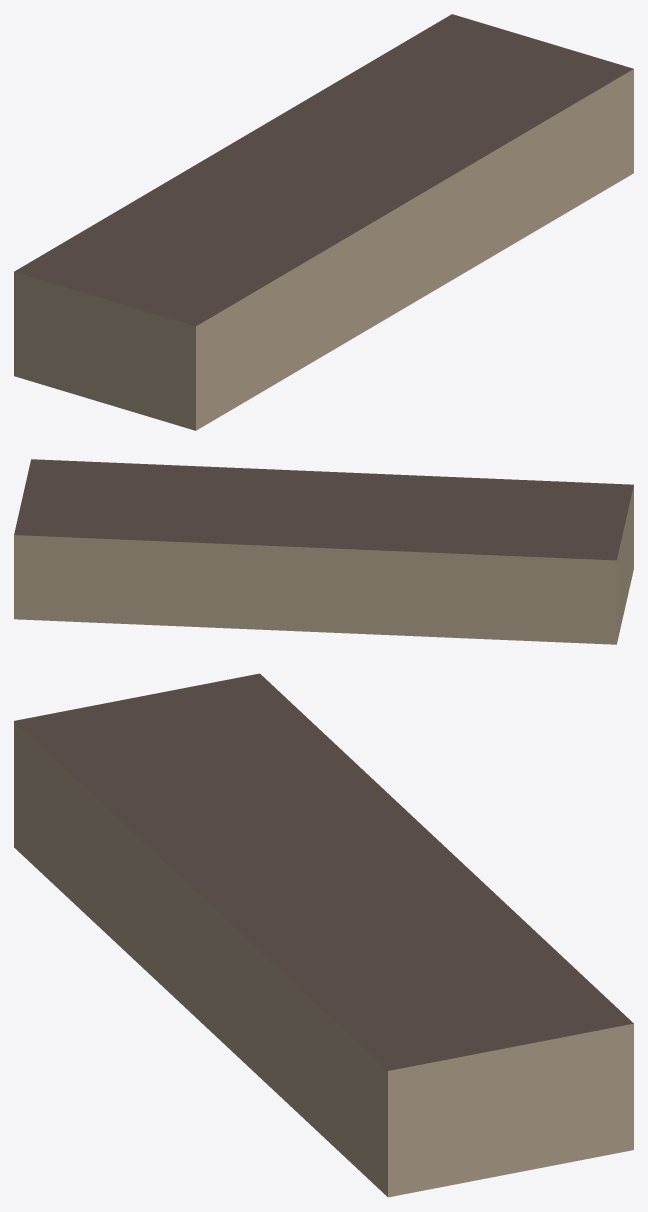
3 views of the same model, one above another, from view 1: azimuth 30°, elevation 25°; view 2: azimuth 150°, elevation 25°; view 3: azimuth 270°, elevation 25° (orthographic). The views are drawn at different scales.
Visible parts, largest first — view 1: HP-w475045201; view 2: HP-w475045201; view 3: HP-w475045201.
Boxes of the visible parts, box(x1,y1,x2,y2) form: HP-w475045201: box(14, 14, 633, 430); HP-w475045201: box(14, 459, 633, 644); HP-w475045201: box(14, 673, 633, 1197).
Bounding box in the file's own units: 60.68 × 9 × 39.99.
